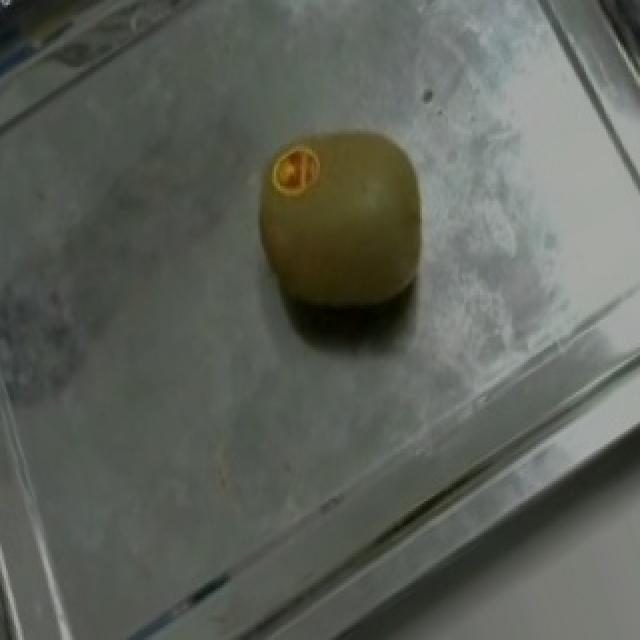Fruit: (220, 94, 468, 370)
